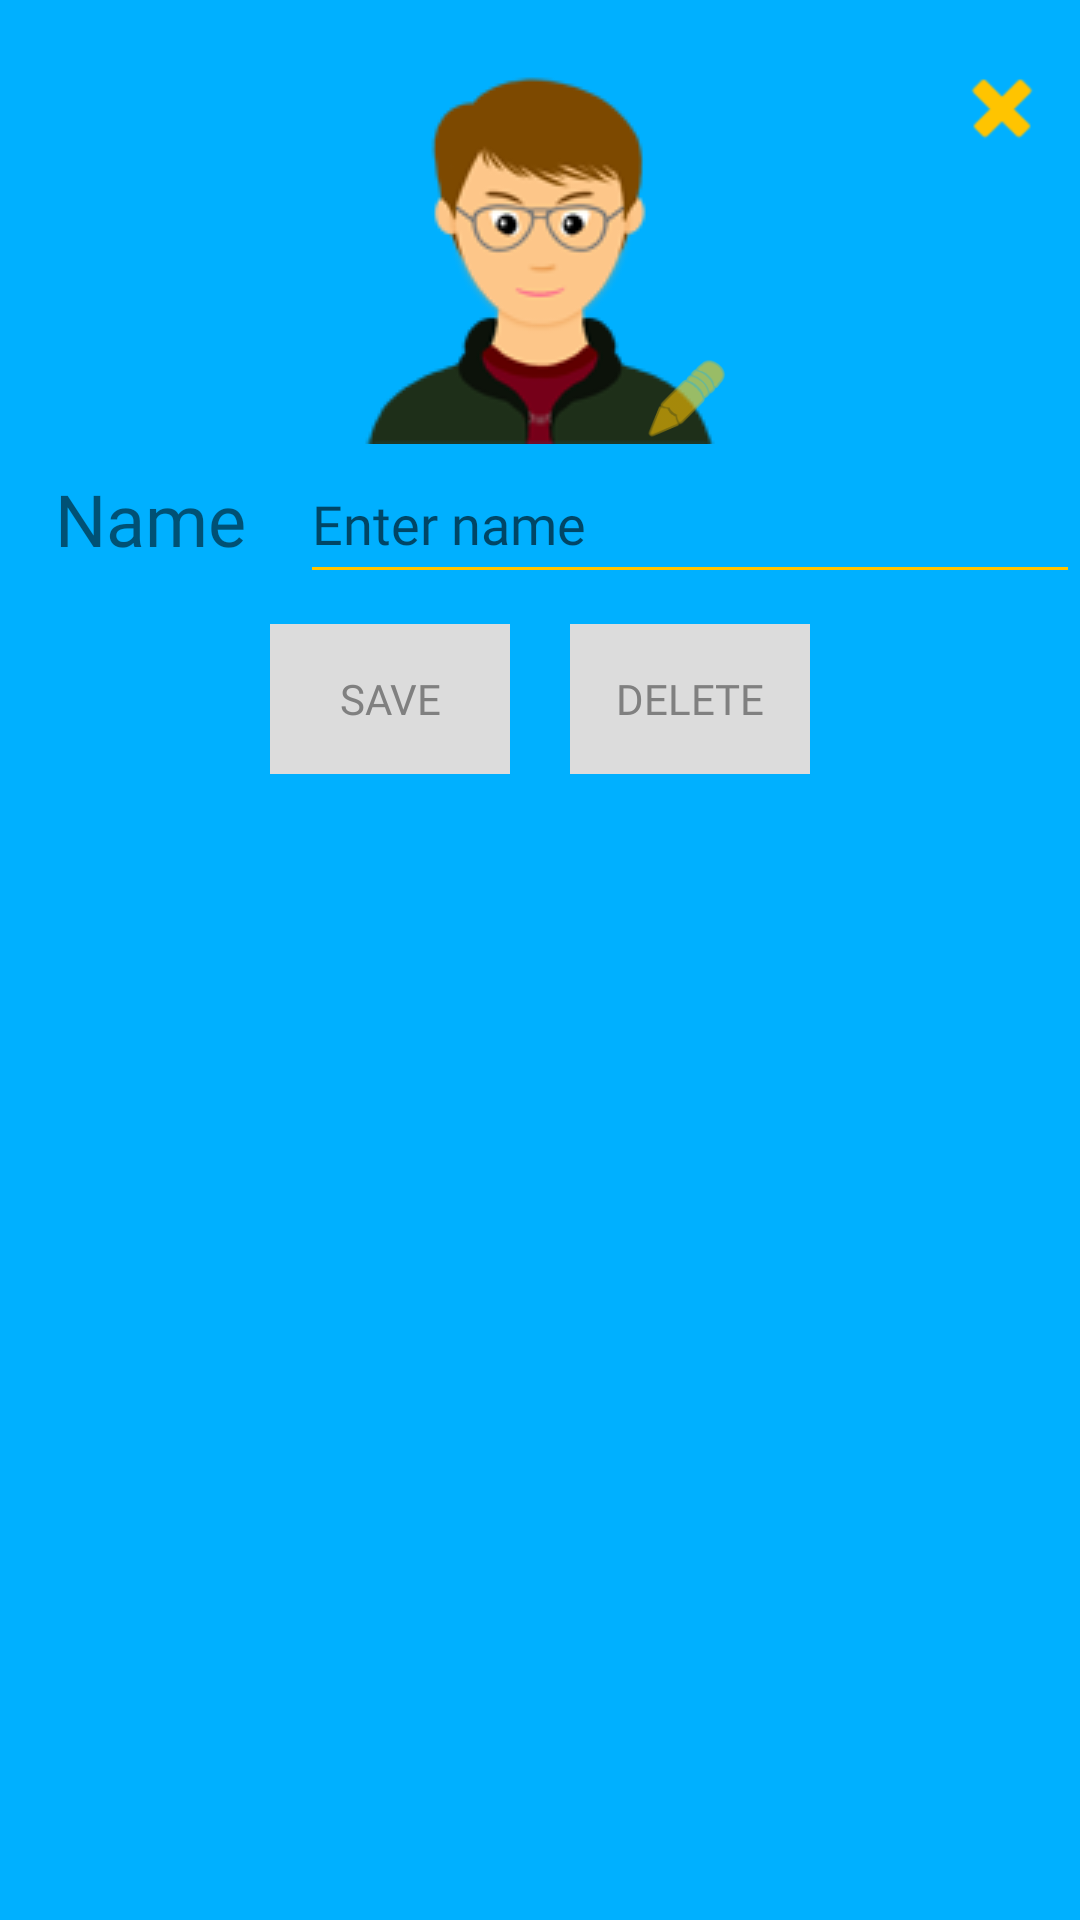

Point at icon controls on the screen. Image size 1080 x 1920, points as (x,y).
edit: (683,402)
